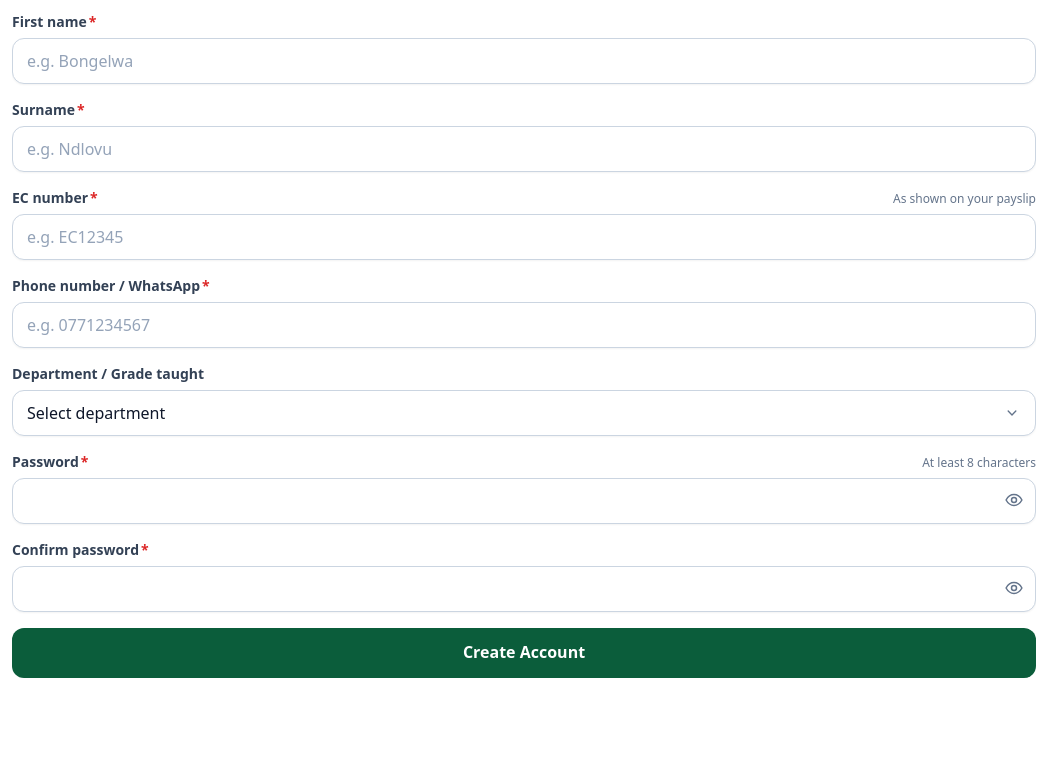
Test: SignupForm › rejects a phone number that is not in Zimbabwe format
Type "12345" into the field labelled "Phone number / WhatsApp*" at [524, 325], box [12,302,1036,348]
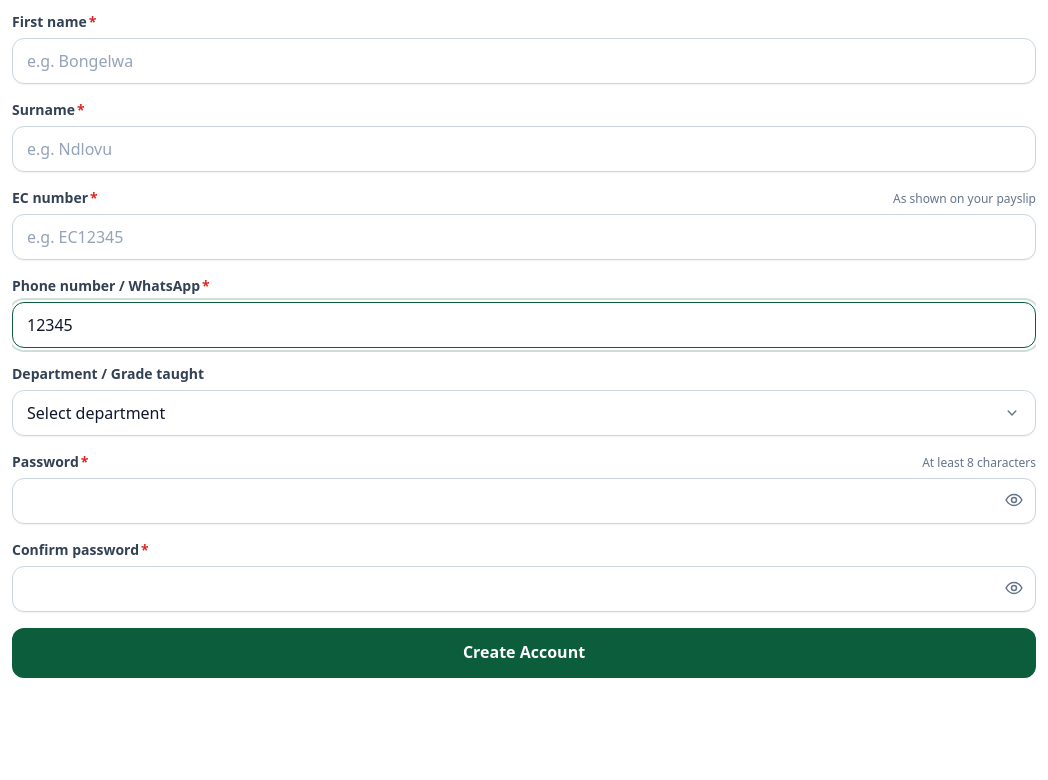
Click the button "Create Account" at [524, 653], box [12,628,1036,678]
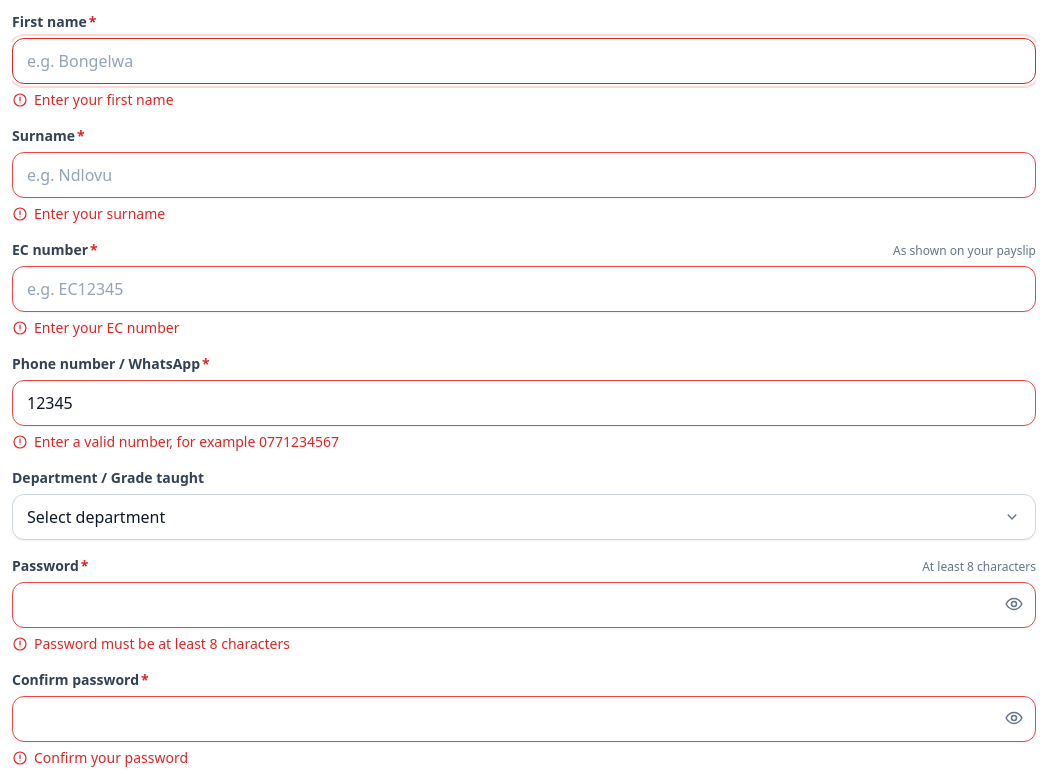
expect the text "Enter a valid number, for example 0771234567" is shown: met, box [34,432,339,452]
